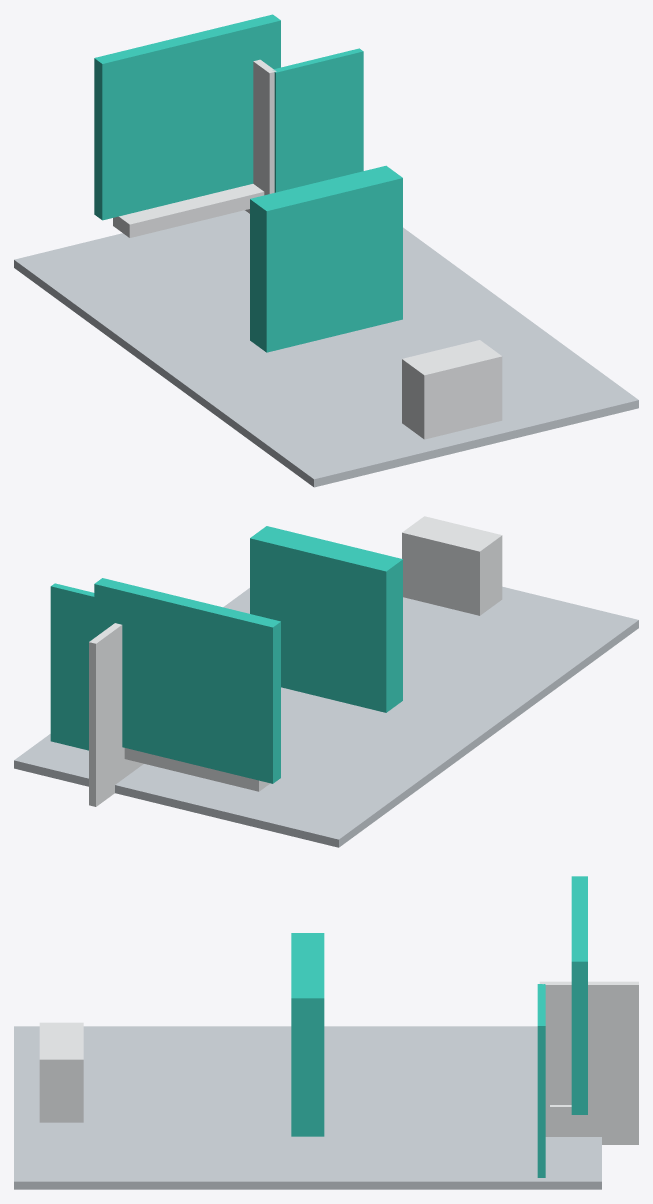
3 views of the same model, one above another, from view 1: azimuth 30°, elevation 25°; view 2: azimuth 150°, elevation 25°; view 3: azimuth 270°, elevation 25° (orthographic). The views are drawn at different scales.
Visible parts, largest first — view 1: Exhibition Booth Concept; view 2: Exhibition Booth Concept; view 3: Exhibition Booth Concept.
Boxes of the visible parts, box(x1,y1,x2,y2) form: Exhibition Booth Concept: box(14, 14, 638, 487); Exhibition Booth Concept: box(14, 516, 638, 847); Exhibition Booth Concept: box(14, 876, 638, 1189).
Bounding box in the file's own units: 5 × 2.9 × 8.51.
